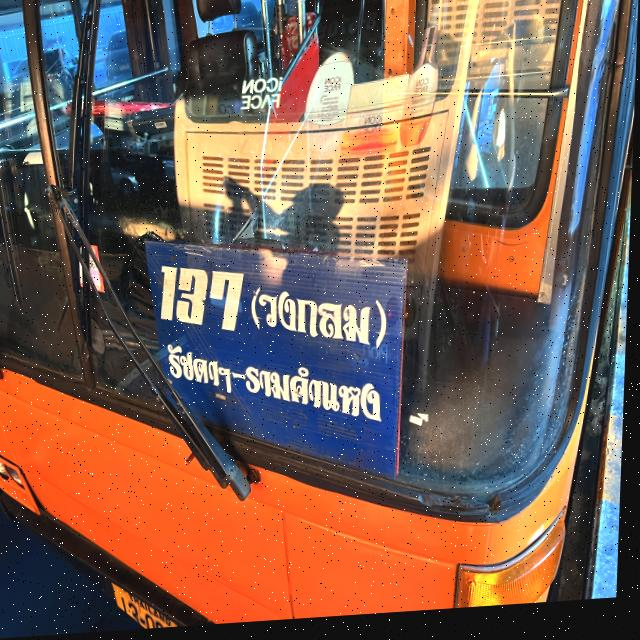Destination Sign: (147, 241, 409, 482)
